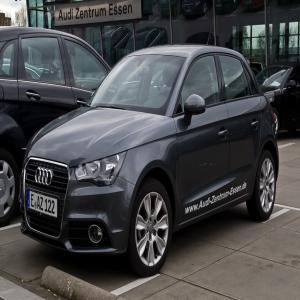Vehicle-registration-plate: (25, 181, 57, 233)
